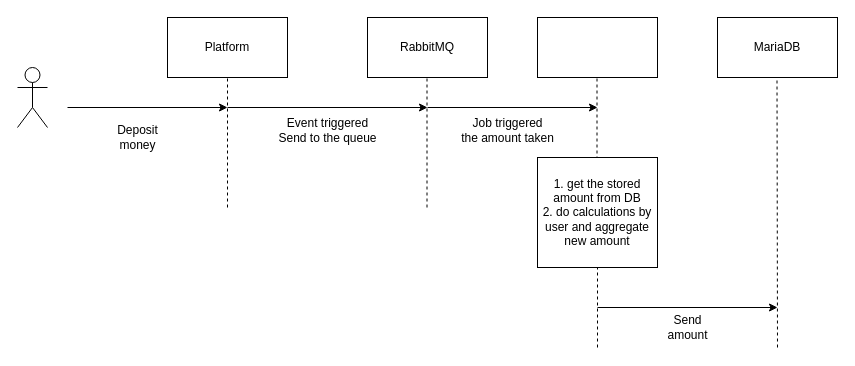
The diagram is 855 pixels wide and 366 high, and some of its shapes have lost their labels. The shapes that lost their labels are listed below. From the top down, each one's centre as x and y in pixels, then its label:
the point at 597,47: core service
the point at 32,97: User
